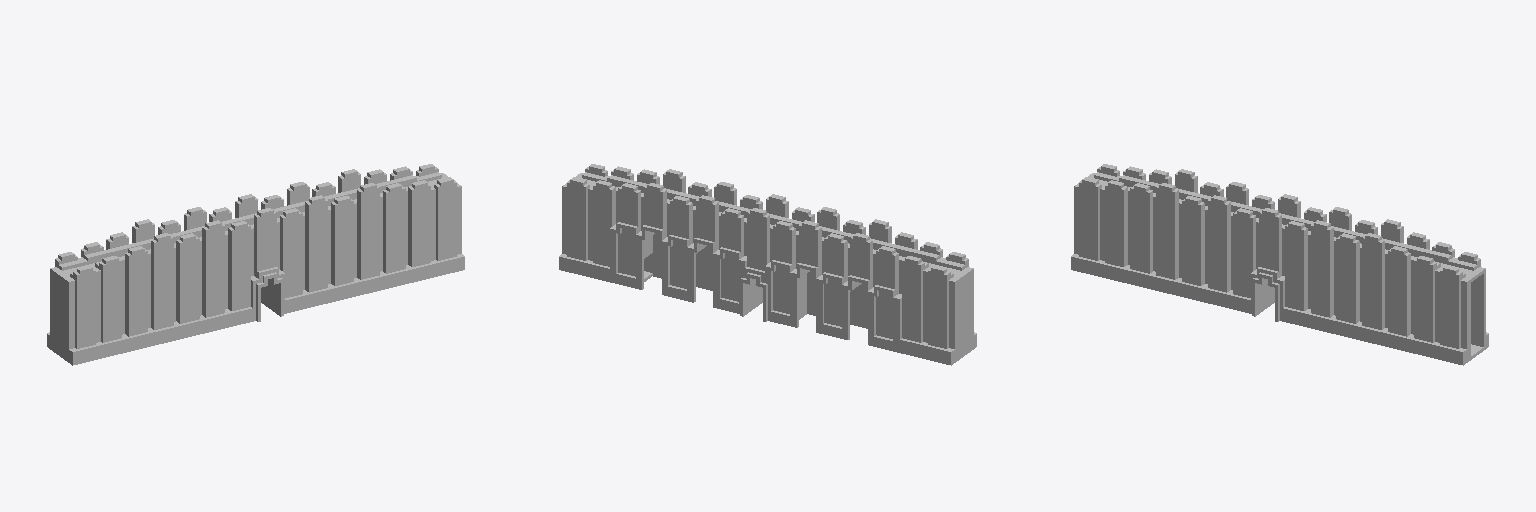
The model's file is 02_wall_2X.obj.
3 renders of one model, left to right at view 1: azimuth 30°, elevation 25°; view 2: azimuth 150°, elevation 25°; view 3: azimuth 330°, elevation 25°, orthographic.
Size of the model in its own units: 122 by 31 by 16.